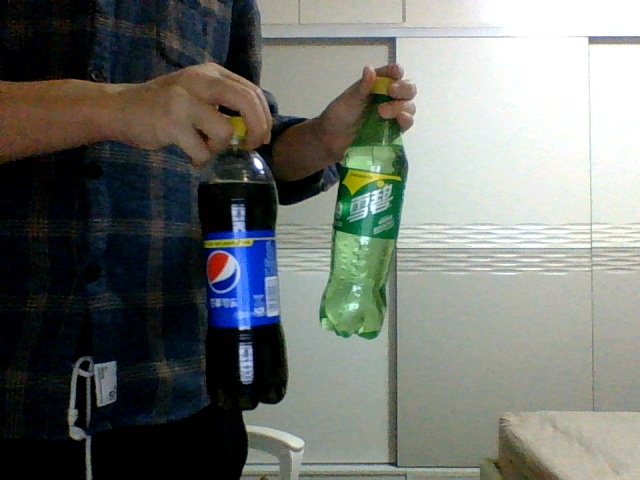Cola: (197, 119, 289, 407)
Sprite: (319, 78, 408, 341)
